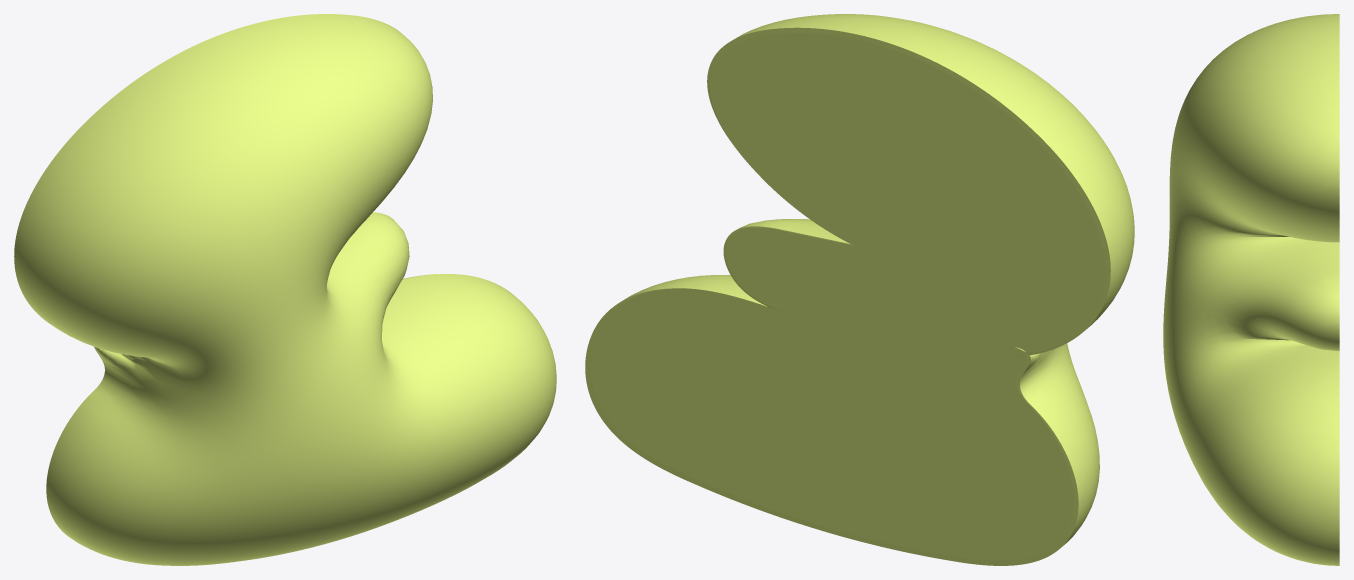
The picture shows the model from 3 angles, left to right: view 1: azimuth 30°, elevation 25°; view 2: azimuth 150°, elevation 25°; view 3: azimuth 270°, elevation 25°; orthographic projection. The views are drawn at different scales.
Size of the model in its own units: 0.0961 by 0.0885 by 0.0313.
